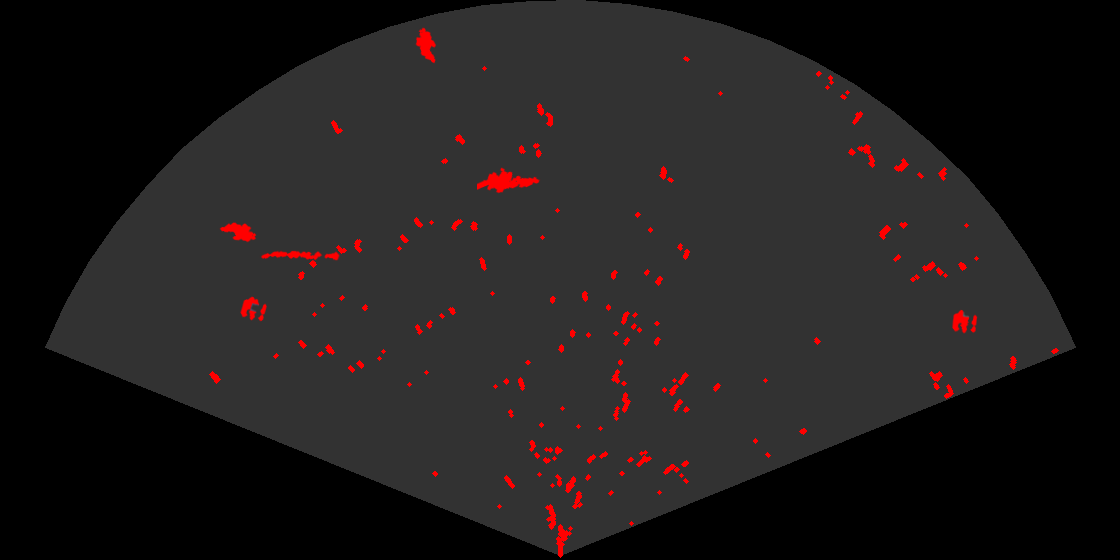AUV: (414, 26, 438, 65), (218, 221, 258, 244)
ball: (239, 295, 268, 323), (951, 308, 979, 335)
chain: (259, 249, 340, 262)
frogman: (477, 166, 541, 195)
